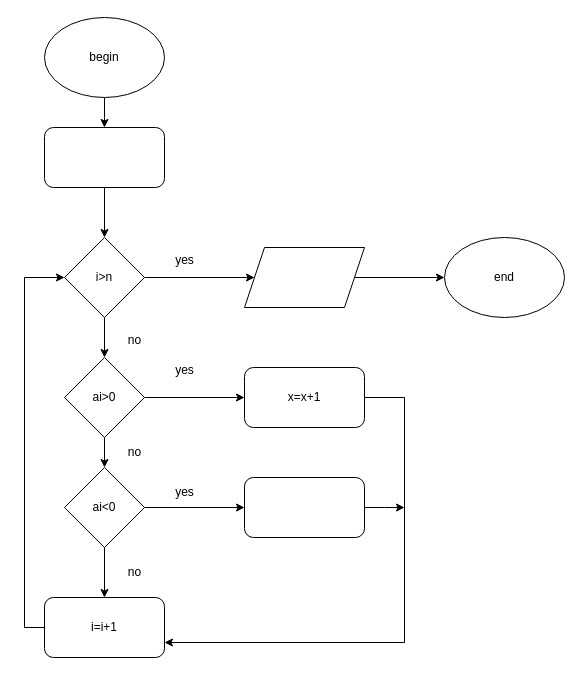
The diagram is 582 pixels wide and 675 high, and some of its shapes have lost their labels. Here are the shapes that lost their labels. From the top down, the centre of each, then its label:
the point at 104,157: x=y=0 i=1
the point at 304,277: display x y
the point at 304,507: y=y+1
